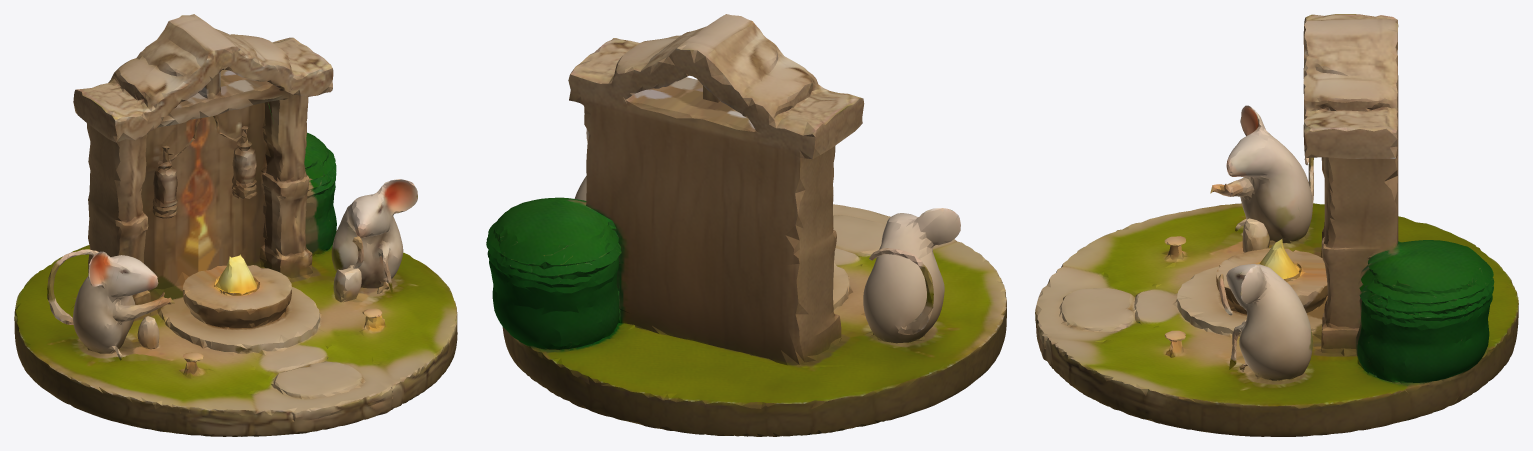
The picture shows the model from 3 angles, left to right: view 1: azimuth 30°, elevation 25°; view 2: azimuth 150°, elevation 25°; view 3: azimuth 270°, elevation 25°; orthographic projection. The views are drawn at different scales.
Visible parts, largest first — view 1: 049; view 2: 049; view 3: 049.
Part boxes in pixels (x1,y1,x2,y2): 049: (14,14,457,436); 049: (486,14,1006,436); 049: (1035,14,1518,436).
Size of the model in its own units: 1.9 by 1.36 by 1.9.
Materials: 1 (1 with a texture image).
